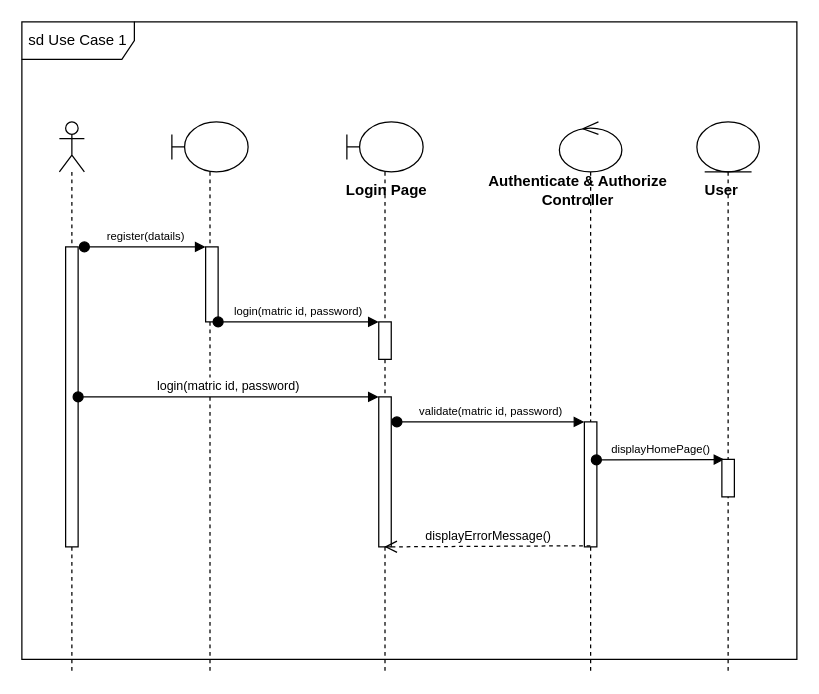
Image size: 819x694. Some labels were removed from this diagram. The box of each missing label's shape, as (x1, y1, x2, y2) in pixels:
Administrator: (58, 121, 84, 672)
Register Account Page: (171, 121, 248, 672)
